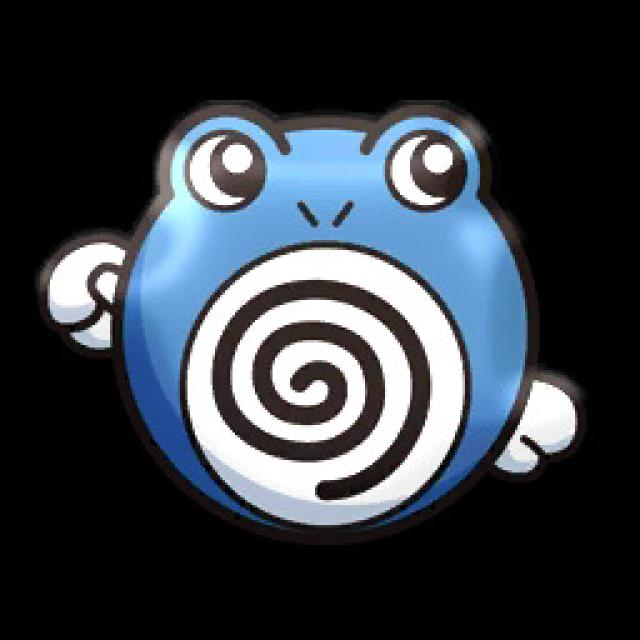Poliwhirl: (68, 106, 561, 522)
